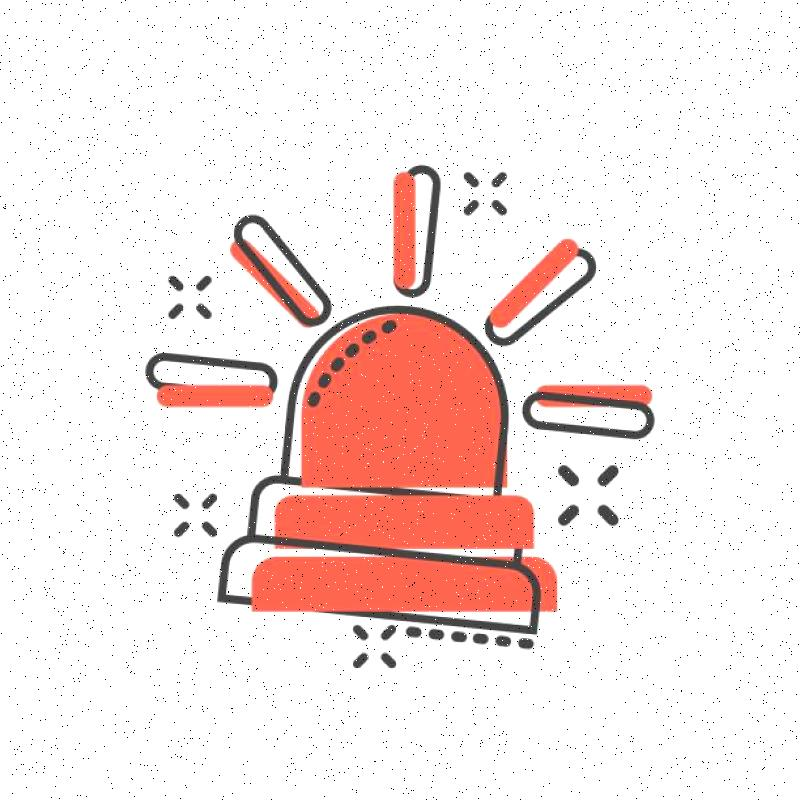AmbulanceSiren: (193, 295, 562, 666)
